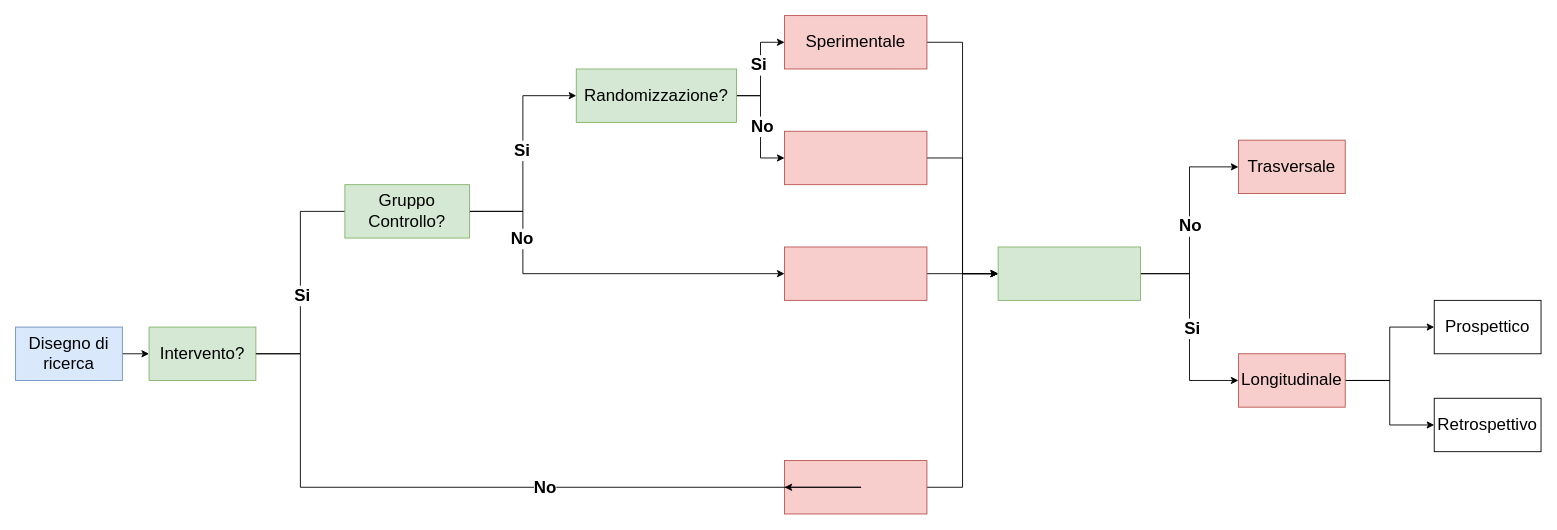
The diagram is 1557 pixels wide and 530 high, and some of its shapes have lost their labels. Each missing label, with the box of its shape:
Dimensione temporale?: (997, 246, 1141, 300)
Osservazionale: (784, 460, 927, 514)
Pre-sperimentale: (784, 246, 927, 300)
Quasi-sperimentale: (784, 130, 927, 185)
